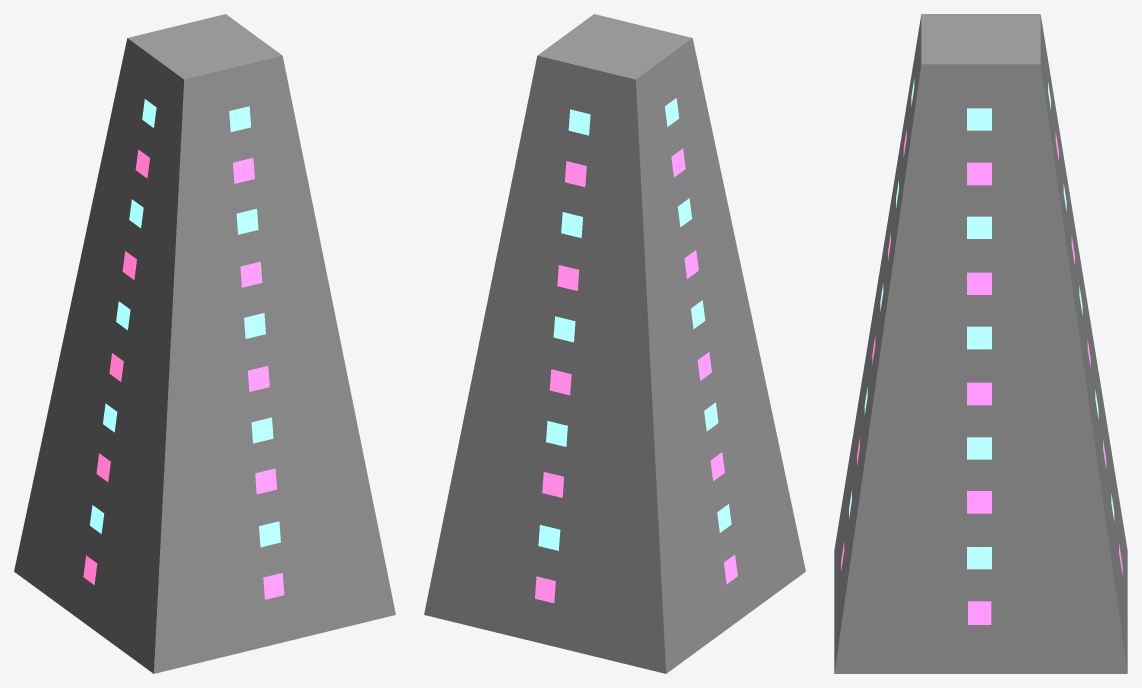
The model's file is decoration latest.glb.
The picture shows the model from 3 angles, left to right: view 1: azimuth 30°, elevation 25°; view 2: azimuth 150°, elevation 25°; view 3: azimuth 270°, elevation 25°; orthographic projection. The views are drawn at different scales.
Visible parts, largest first — view 1: Cube.024, Cube.006; view 2: Cube.024, Cube.006; view 3: Cube.024, Cube.006.
Part boxes in pixels (<box>): Cube.024: <box>14,14,395,673</box>; Cube.006: <box>83,99,284,599</box>; Cube.024: <box>424,14,805,673</box>; Cube.006: <box>535,98,737,603</box>; Cube.024: <box>834,14,1127,673</box>; Cube.006: <box>841,79,1122,624</box>.
Size of what is drawn, in the model's own units: 1.61 by 3.48 by 1.61.
